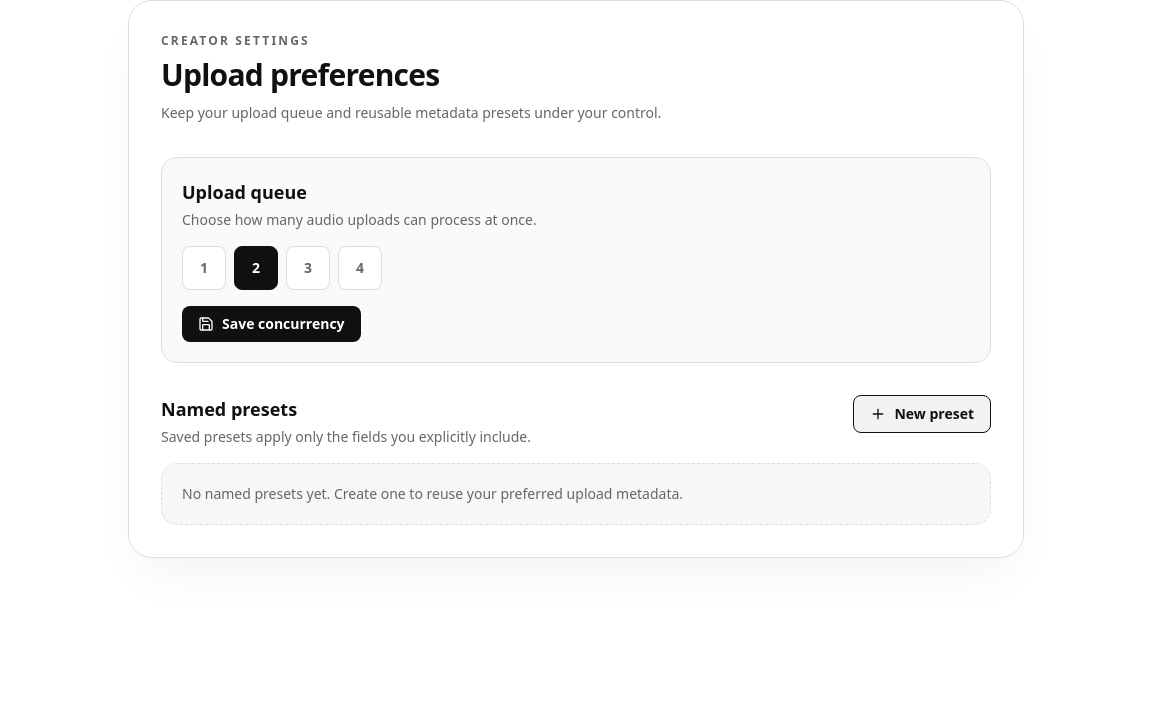
Test: UploadPreferencesForm › shows safe action errors in an alert on the light accessible surface
This screenshot has width=1152, height=720.
Click the button "Save concurrency" at (271, 324), box [182, 306, 361, 342]
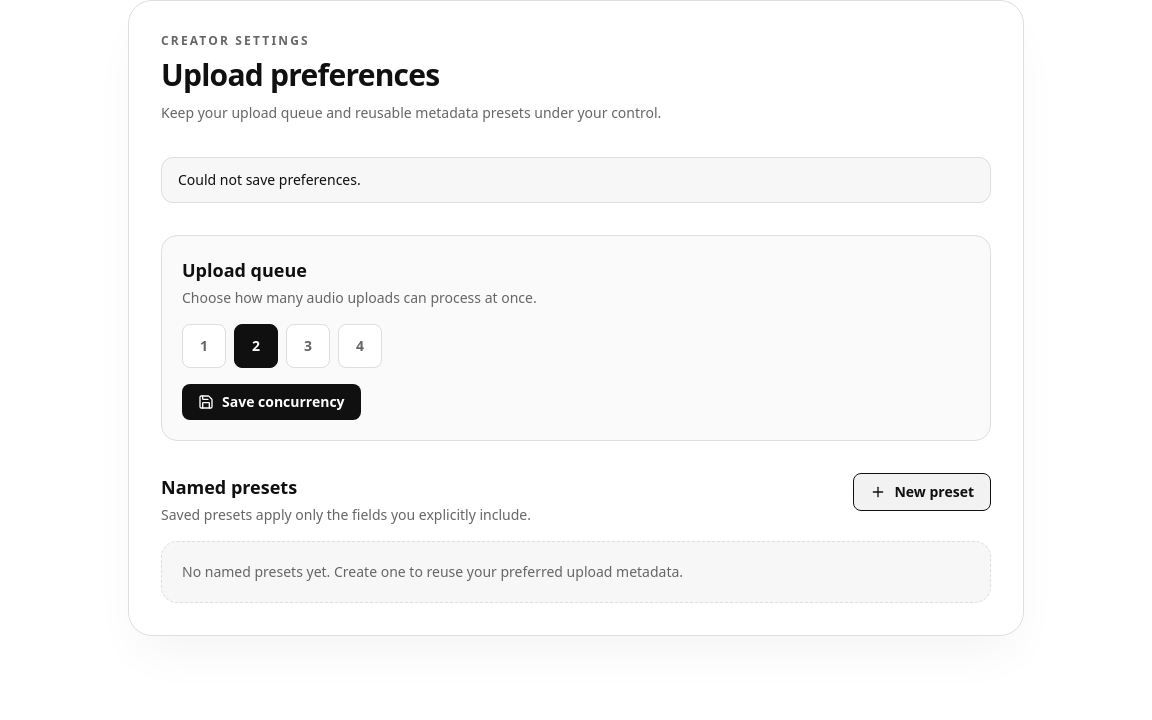
Expected: the message reads "Could not save preferences.", [178, 170, 361, 189]
